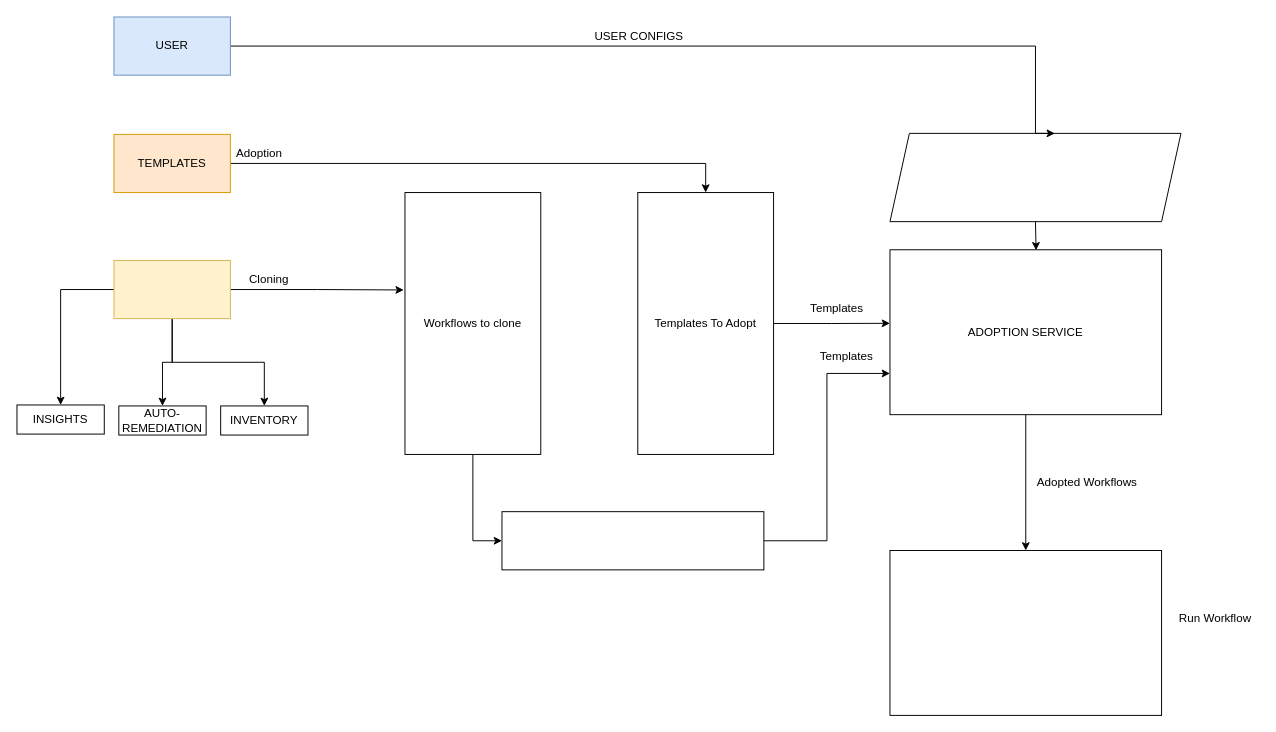
This 1276x732 diagram has some shape labels left out. The shapes that lost their labels are listed below. From the top down, each one's centre as x and y in pixels, then its label:
the point at 1035,177: Accounts, Regions, ResourceGroups
the point at 171,289: WORKFLOWS
the point at 632,540: CONVERT WORKFLOWS TO TEMPLATE
the point at 1025,632: Workflow Execution Service
